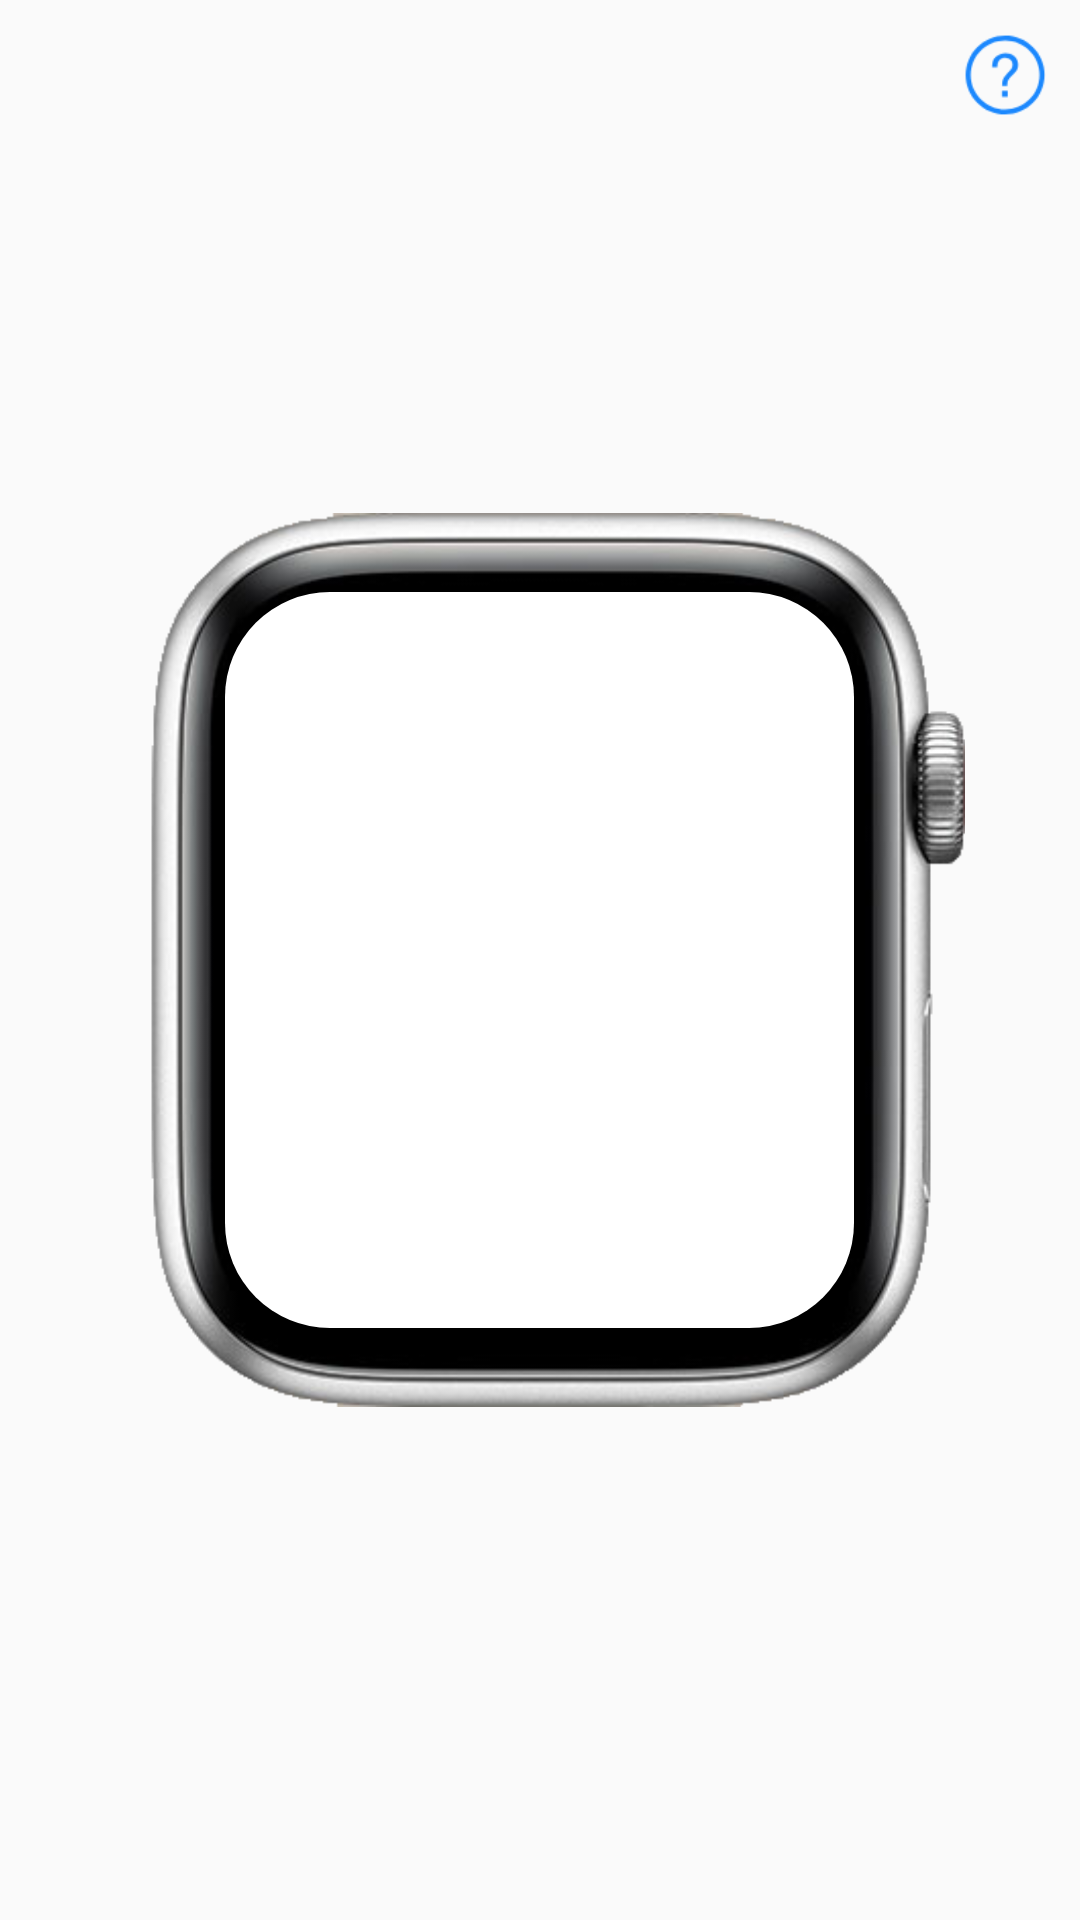

Screen size 1080 x 1920. Icon name, then its center in pixels as [x,y]:
help: [1005,75]
